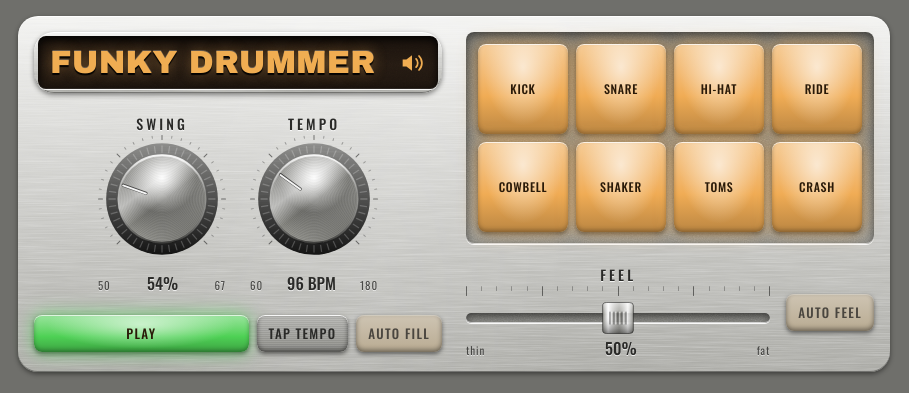
the transport › swaps its label once it is running
Click the button "Play": (141, 334) top-left (34, 315), bottom-right (249, 352)
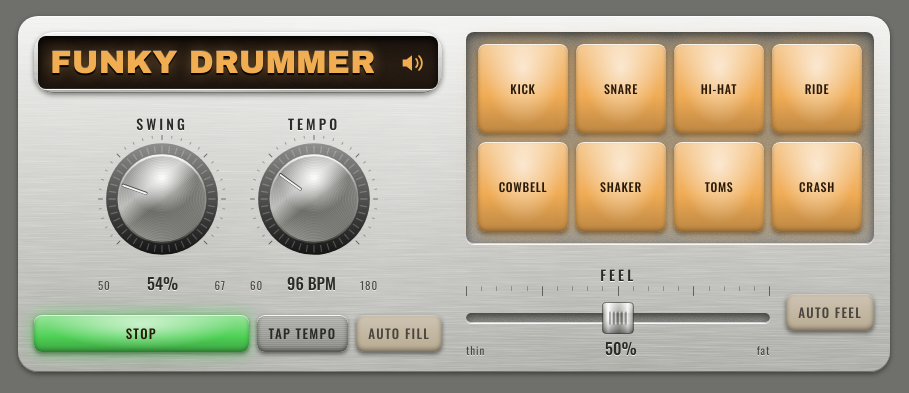
Now the button "Stop" is shown, box top-left (34, 315), bottom-right (249, 352)
